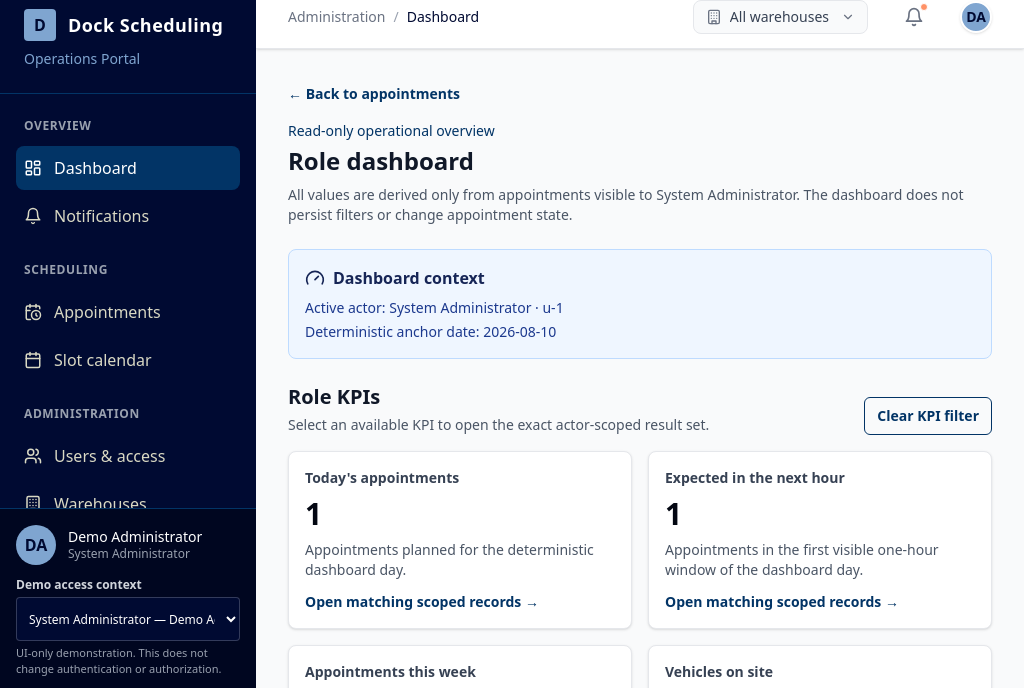
dashboard AppRoutes integration › revalidates an actor-bound KPI query after switching actors
Select "Supplier User — Grace Vistula" in the dropdown labelled "Demo access context". click: (128, 619)
box: x1=16 y1=597 x2=240 y2=641
(page scrolled)
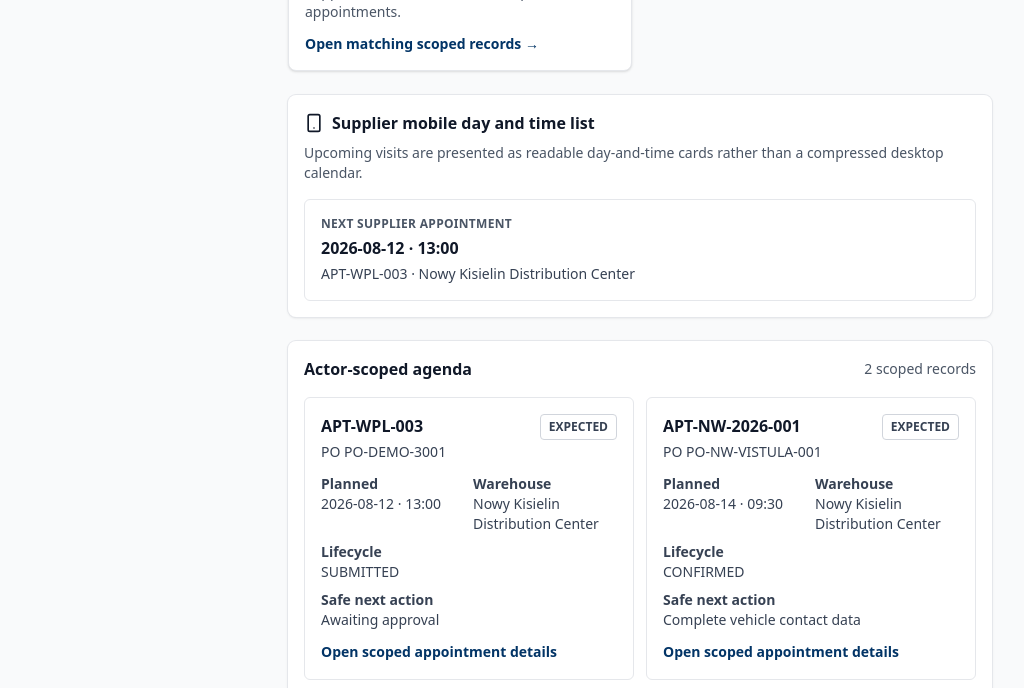
Expected: the heading "Actor-scoped agenda" is shown, x1=304 y1=357 x2=472 y2=381
